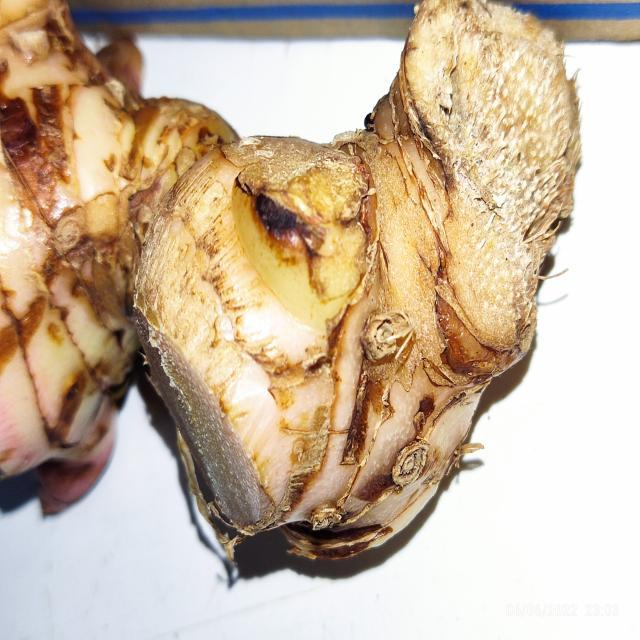ginger: (4, 0, 574, 527)
